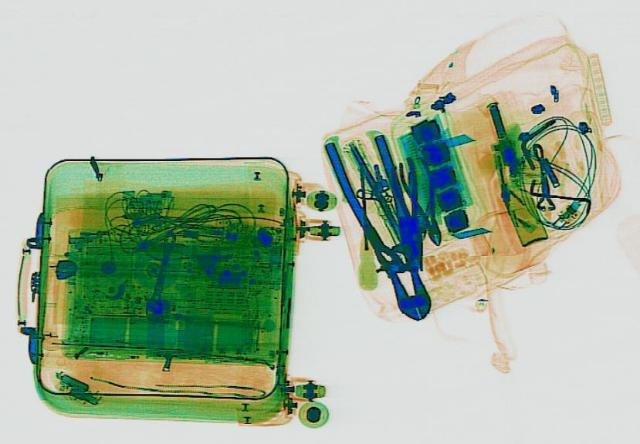Pliers: (321, 132, 451, 322), (370, 158, 440, 270), (392, 155, 454, 245)
